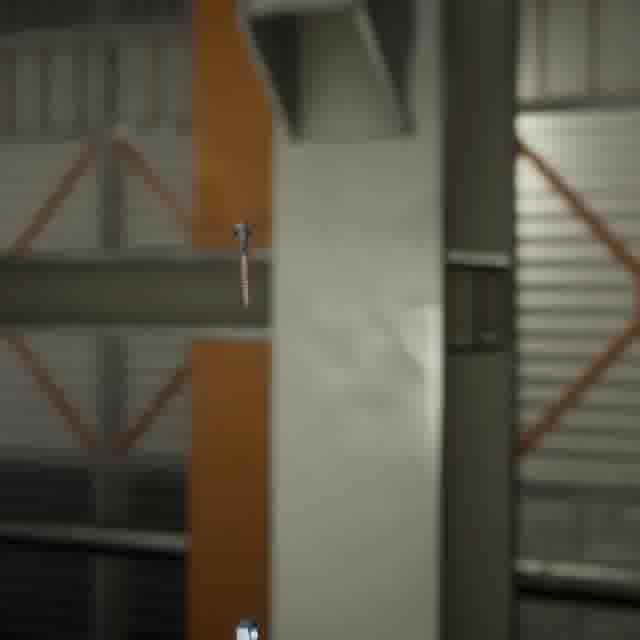bolt: (227, 217, 256, 311)
nut: (231, 613, 263, 640)
